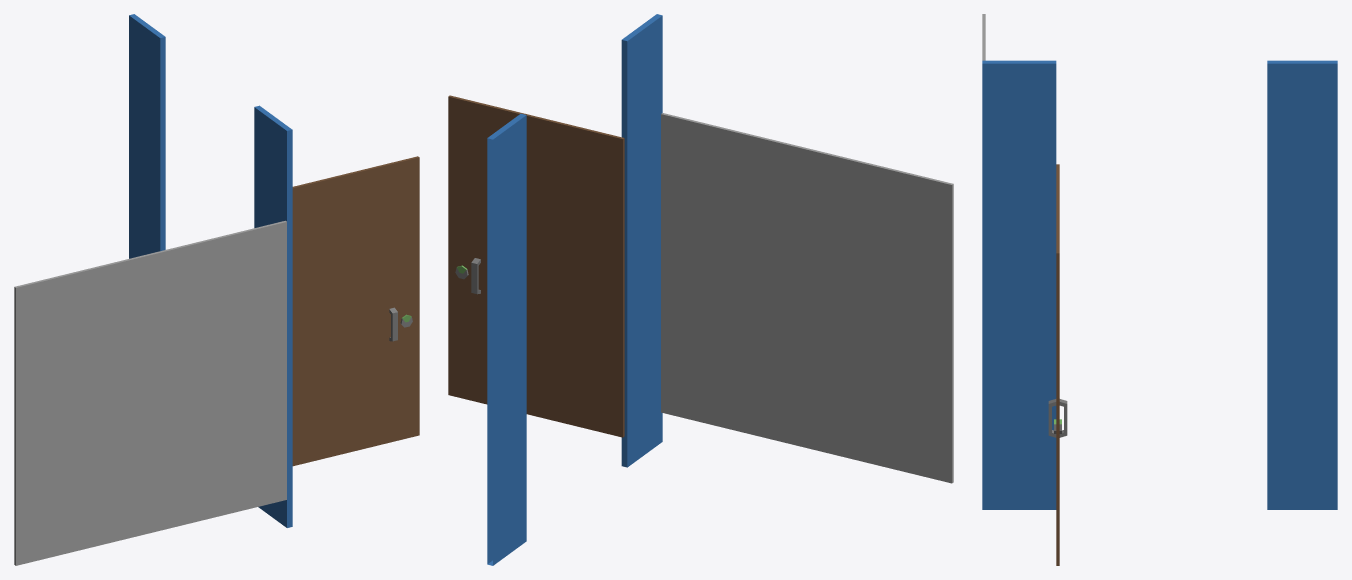
The model's file is Int_RestroomPartition01_3.fbx.
3 views of the same model, side by side, from view 1: azimuth 30°, elevation 25°; view 2: azimuth 150°, elevation 25°; view 3: azimuth 270°, elevation 25° (orthographic). The views are drawn at different scales.
Visible parts, largest first — view 1: Int_RestroomPartition01_3, Int_RestroomPartitionDoor01; view 2: Int_RestroomPartition01_3, Int_RestroomPartitionDoor01; view 3: Int_RestroomPartition01_3, Int_RestroomPartitionDoor01.
Part boxes in pixels (box(x1,y1,x2,y2)): Int_RestroomPartition01_3: box(14, 14, 292, 565); Int_RestroomPartitionDoor01: box(292, 156, 419, 466); Int_RestroomPartition01_3: box(487, 14, 953, 565); Int_RestroomPartitionDoor01: box(448, 95, 624, 437); Int_RestroomPartition01_3: box(982, 14, 1337, 509); Int_RestroomPartitionDoor01: box(1048, 164, 1067, 565).
Size of what is drawn, in the model's own units: 403 by 252 by 350.
